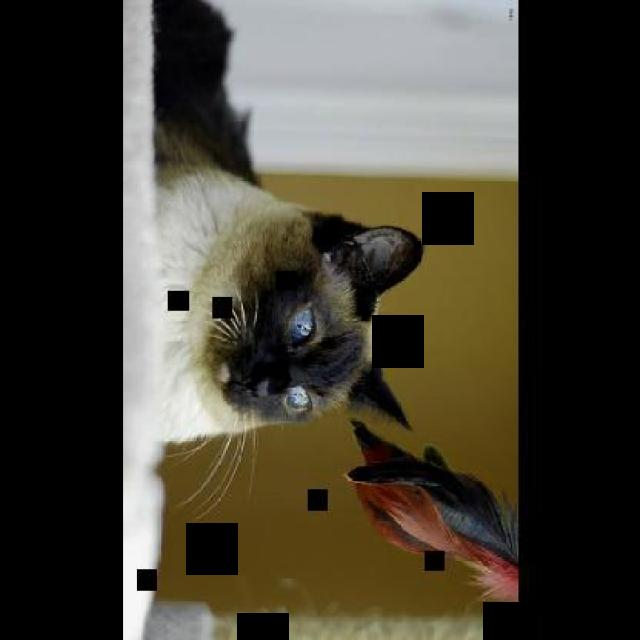unauthorized: (149, 0, 425, 523), (343, 416, 519, 638)
